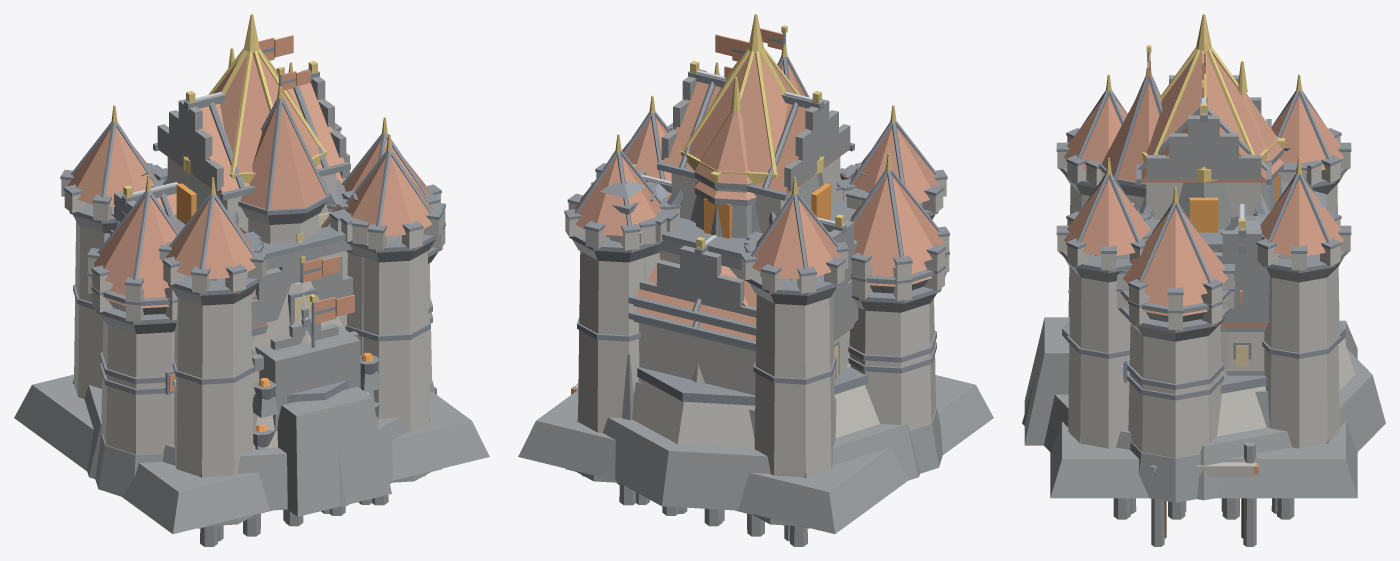
Rendered from frontier-ironhold.glb.
3 views of the same model, side by side, from view 1: azimuth 30°, elevation 25°; view 2: azimuth 150°, elevation 25°; view 3: azimuth 270°, elevation 25° (orthographic). The views are drawn at different scales.
Parts seen in each view (by area): view 1: building:keep:iron:0:stone, building:towncenter:iron:2:stoneDark, building:wonder:iron:0:stoneDark, building:keep:iron:0:stoneDark, building:keep:iron:0:teamRoof, building:keep:iron:0:iron, building:towncenter:iron:3:stone, building:towncenter:iron:3:teamRoof, building:monastery:iron:0:teamRoof, building:wonder:iron:0:teamRoof, building:monastery:iron:0:stoneDark, building:towncenter:iron:3:iron (+13 smaller); view 2: building:keep:iron:0:stone, building:towncenter:iron:2:stoneDark, building:towncenter:iron:3:stone, building:wonder:iron:0:stoneDark, building:keep:iron:0:teamRoof, building:keep:iron:0:iron, building:towncenter:iron:3:teamRoof, building:wonder:iron:0:stone, building:keep:iron:0:stoneDark, building:towncenter:iron:2:stone, building:towncenter:iron:3:iron, building:wonder:iron:0:teamRoof (+11 smaller); view 3: building:keep:iron:0:stone, building:towncenter:iron:2:stoneDark, building:keep:iron:0:teamRoof, building:wonder:iron:0:stoneDark, building:towncenter:iron:3:stone, building:keep:iron:0:iron, building:keep:iron:0:stoneDark, building:towncenter:iron:3:teamRoof, building:wonder:iron:0:teamRoof, building:towncenter:iron:3:iron, building:wonder:iron:0:stone, building:monastery:iron:0:teamRoof (+13 smaller).
Part boxes in pixels (x1,y1,x2,y2): building:keep:iron:0:stone: [61, 130, 442, 477]; building:towncenter:iron:2:stoneDark: [14, 172, 489, 533]; building:wonder:iron:0:stoneDark: [84, 172, 405, 516]; building:keep:iron:0:stoneDark: [73, 69, 442, 528]; building:keep:iron:0:teamRoof: [67, 82, 433, 278]; building:keep:iron:0:iron: [60, 71, 443, 399]; building:towncenter:iron:3:stone: [88, 193, 445, 454]; building:towncenter:iron:3:teamRoof: [93, 139, 430, 289]; building:monastery:iron:0:teamRoof: [240, 104, 343, 328]; building:wonder:iron:0:teamRoof: [213, 54, 318, 172]; building:monastery:iron:0:stoneDark: [241, 202, 352, 325]; building:towncenter:iron:3:iron: [87, 133, 445, 383]; building:keep:iron:0:stone: [565, 157, 946, 477]; building:towncenter:iron:2:stoneDark: [518, 238, 993, 533]; building:towncenter:iron:3:stone: [596, 172, 949, 430]; building:wonder:iron:0:stoneDark: [602, 172, 919, 510]; building:keep:iron:0:teamRoof: [574, 81, 940, 278]; building:keep:iron:0:iron: [564, 71, 947, 384]; building:towncenter:iron:3:teamRoof: [622, 110, 943, 324]; building:wonder:iron:0:stone: [610, 177, 879, 448]; building:keep:iron:0:stoneDark: [565, 69, 934, 528]; building:towncenter:iron:2:stone: [606, 235, 949, 395]; building:towncenter:iron:3:iron: [591, 112, 949, 374]; building:wonder:iron:0:teamRoof: [689, 53, 794, 172]; building:keep:iron:0:stone: [1057, 136, 1350, 448]; building:towncenter:iron:2:stoneDark: [1050, 249, 1357, 502]; building:keep:iron:0:teamRoof: [1064, 95, 1343, 255]; building:wonder:iron:0:stoneDark: [1022, 182, 1385, 500]; building:towncenter:iron:3:stone: [1117, 273, 1234, 458]; building:keep:iron:0:iron: [1056, 90, 1351, 358]; building:keep:iron:0:stoneDark: [1064, 75, 1343, 443]; building:towncenter:iron:3:teamRoof: [1123, 93, 1282, 297]; building:wonder:iron:0:teamRoof: [1146, 51, 1264, 154]; building:towncenter:iron:3:iron: [1119, 149, 1283, 389]; building:wonder:iron:0:stone: [1086, 165, 1355, 436]; building:monastery:iron:0:teamRoof: [1101, 81, 1161, 183].
Size of the model in its own units: 11.45 by 15.25 by 10.9.
